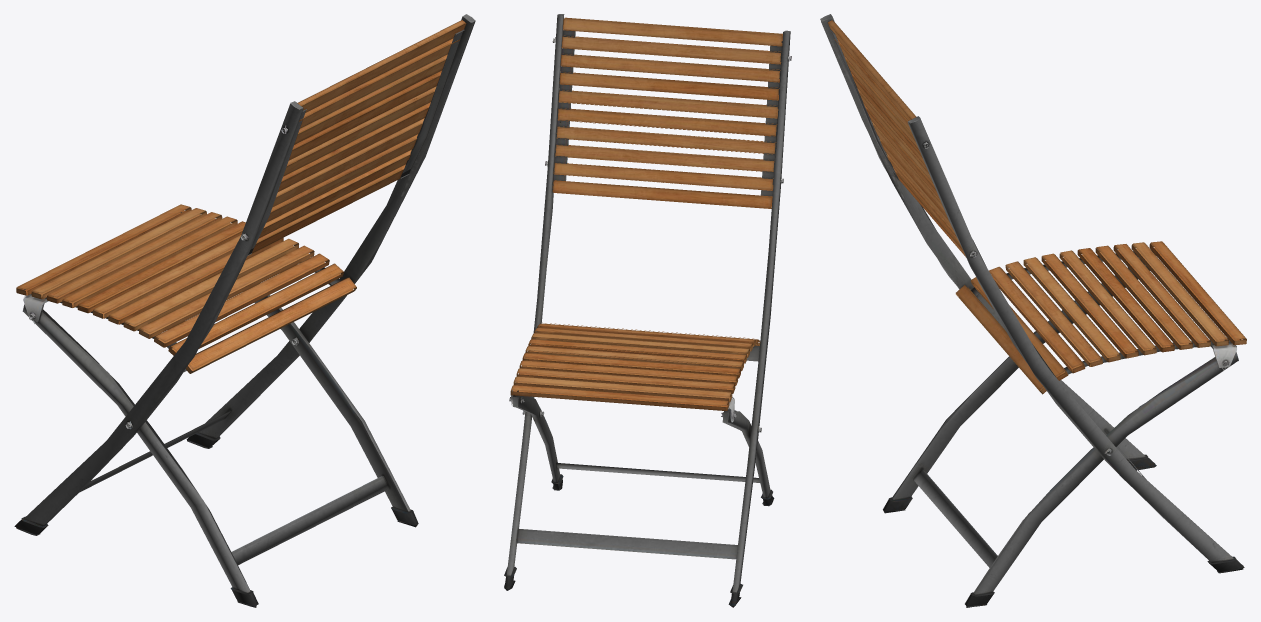
File: ph_folding_chair_01.glb
The picture shows the model from 3 angles, left to right: view 1: azimuth 30°, elevation 25°; view 2: azimuth 150°, elevation 25°; view 3: azimuth 270°, elevation 25°; orthographic projection. The views are drawn at different scales.
Parts seen in each view (by area): view 1: outdoor_table_chair_set_01_chair_01; view 2: outdoor_table_chair_set_01_chair_01; view 3: outdoor_table_chair_set_01_chair_01.
Part boxes in pixels (left/top/right/bottom): outdoor_table_chair_set_01_chair_01: left=14, top=14, right=475, bottom=607; outdoor_table_chair_set_01_chair_01: left=504, top=14, right=791, bottom=607; outdoor_table_chair_set_01_chair_01: left=820, top=14, right=1246, bottom=607.
Bounding box in the file's own units: 0.5725 × 0.8586 × 0.6615.
1 material, 1 textured.
